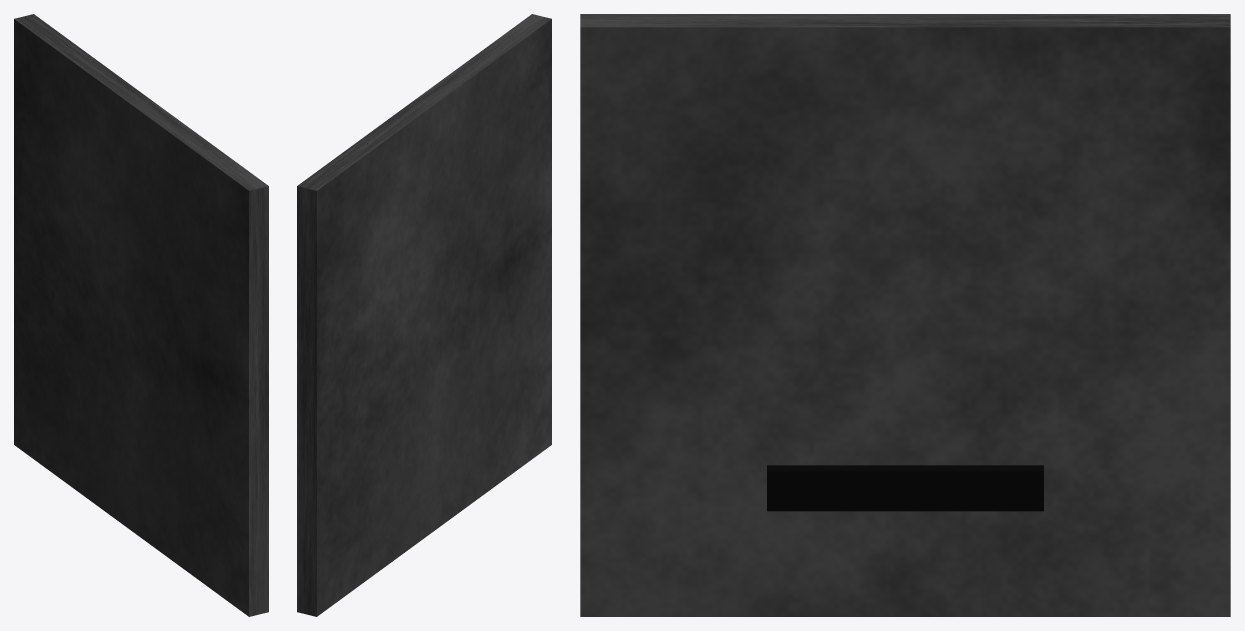
Rendered from flap.fbx.
The picture shows the model from 3 angles, left to right: view 1: azimuth 30°, elevation 25°; view 2: azimuth 150°, elevation 25°; view 3: azimuth 270°, elevation 25°; orthographic projection. The views are drawn at different scales.
Parts seen in each view (by area): view 1: Cube; view 2: Cube; view 3: Cube.
Part boxes in pixels (left/top/right/bottom): Cube: left=14, top=14, right=268, bottom=616; Cube: left=297, top=14, right=551, bottom=616; Cube: left=580, top=14, right=1230, bottom=616.
Bounding box in the file's own units: 21.39 × 200 × 200.
